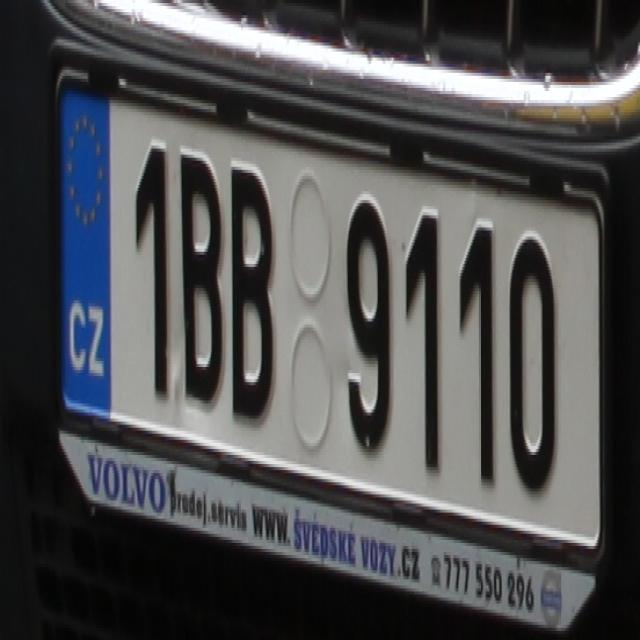0: (505, 230, 559, 492)
1: (460, 216, 499, 494), (131, 134, 170, 404), (406, 209, 442, 470)
9: (344, 191, 388, 455)
B: (227, 154, 276, 430), (178, 152, 222, 410)
